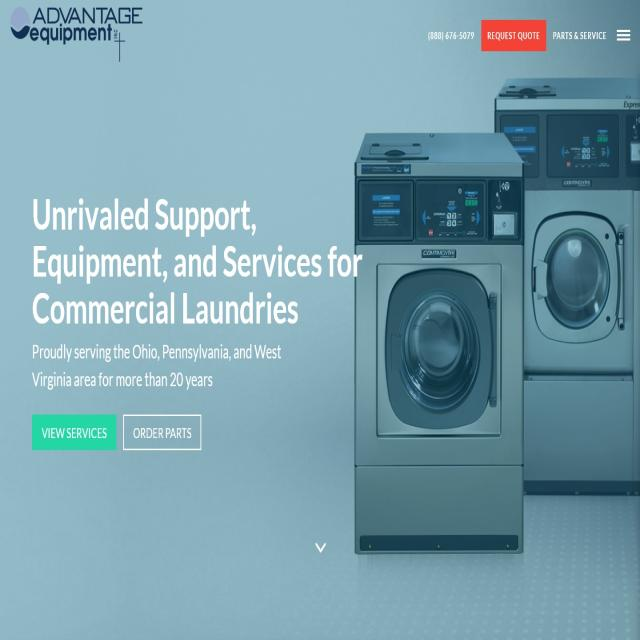button: (32, 415, 114, 449), (123, 415, 200, 450), (480, 17, 545, 49), (551, 17, 607, 51), (611, 17, 634, 52), (309, 532, 331, 562)
heading: (27, 191, 363, 329)
image: (0, 1, 640, 640), (5, 4, 150, 66)
text: (29, 336, 286, 395), (426, 24, 476, 46)
